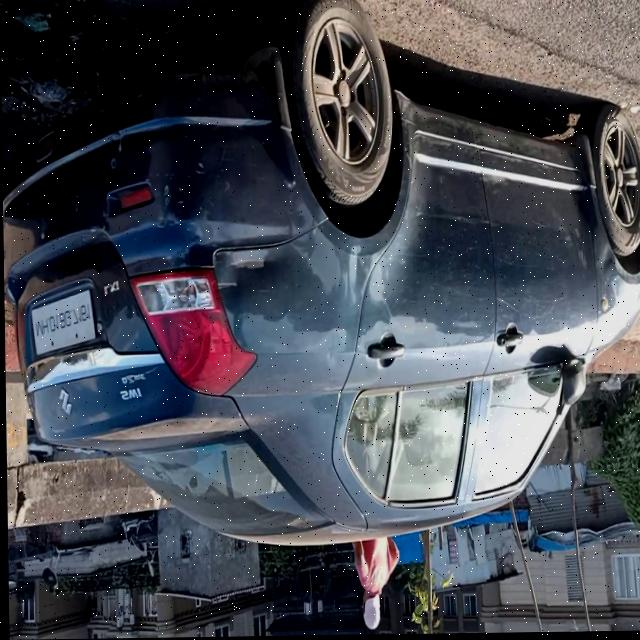plate: (29, 284, 93, 356)
